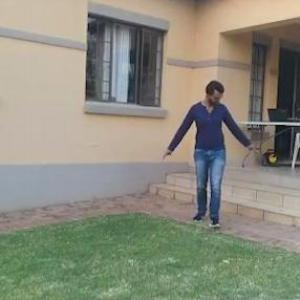land: (157, 76, 256, 238)
